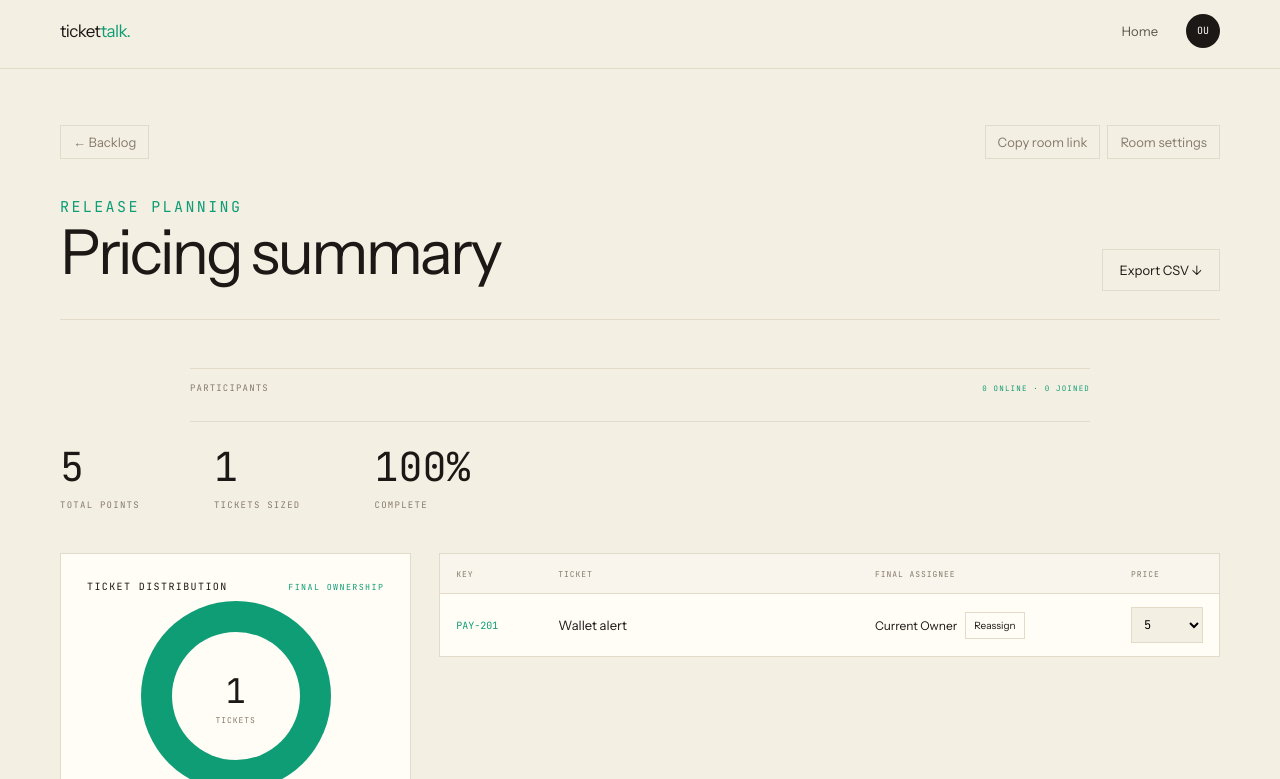
Test: room export and deletion › selects a final Jira assignee and writes the summary back
Click the button "Reassign" at (995, 625), box [965, 612, 1025, 638]
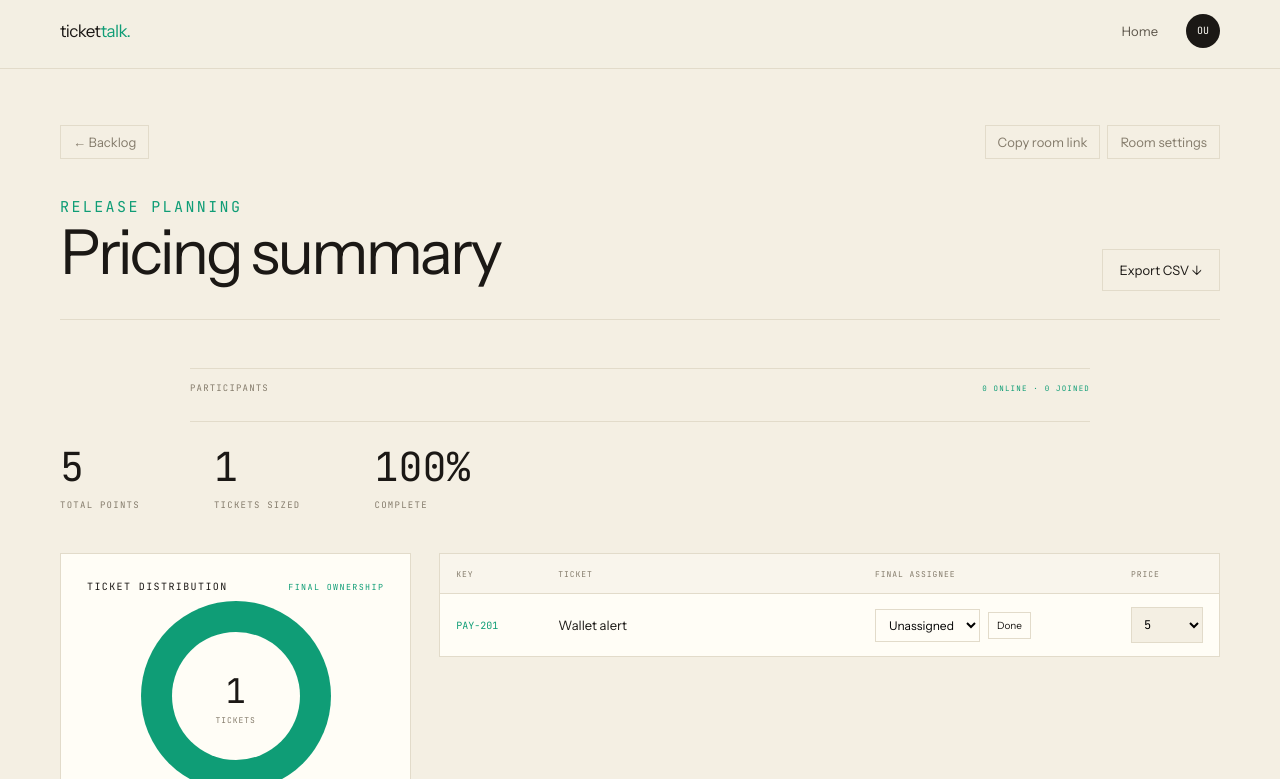
Select "Maya Chen" in the dropdown named "Final assignee for PAY-201" at (927, 625), box [875, 608, 980, 642]
Select "8" in the dropdown named "Final estimate for PAY-201" at (1167, 625), box [1131, 607, 1203, 643]
(page scrolled)
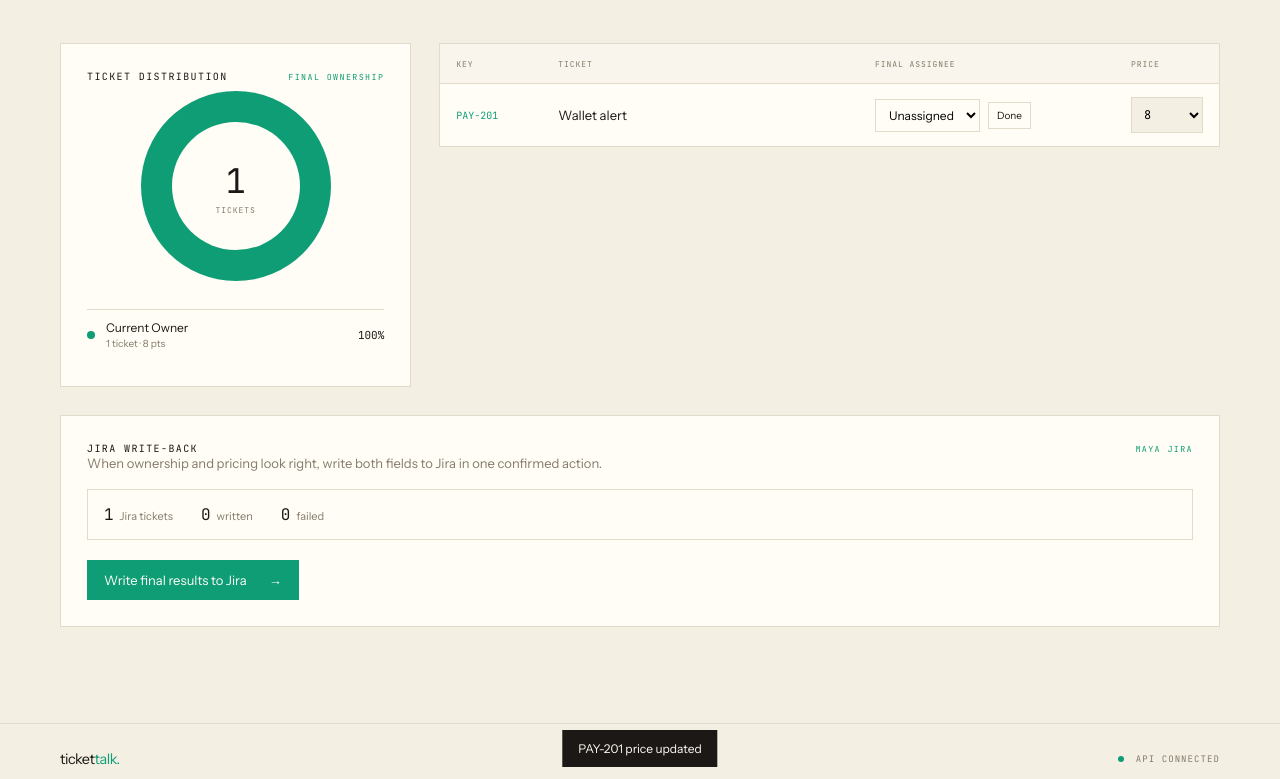
Click the button "Write final results to Jira →" at (193, 580), box [87, 560, 299, 600]
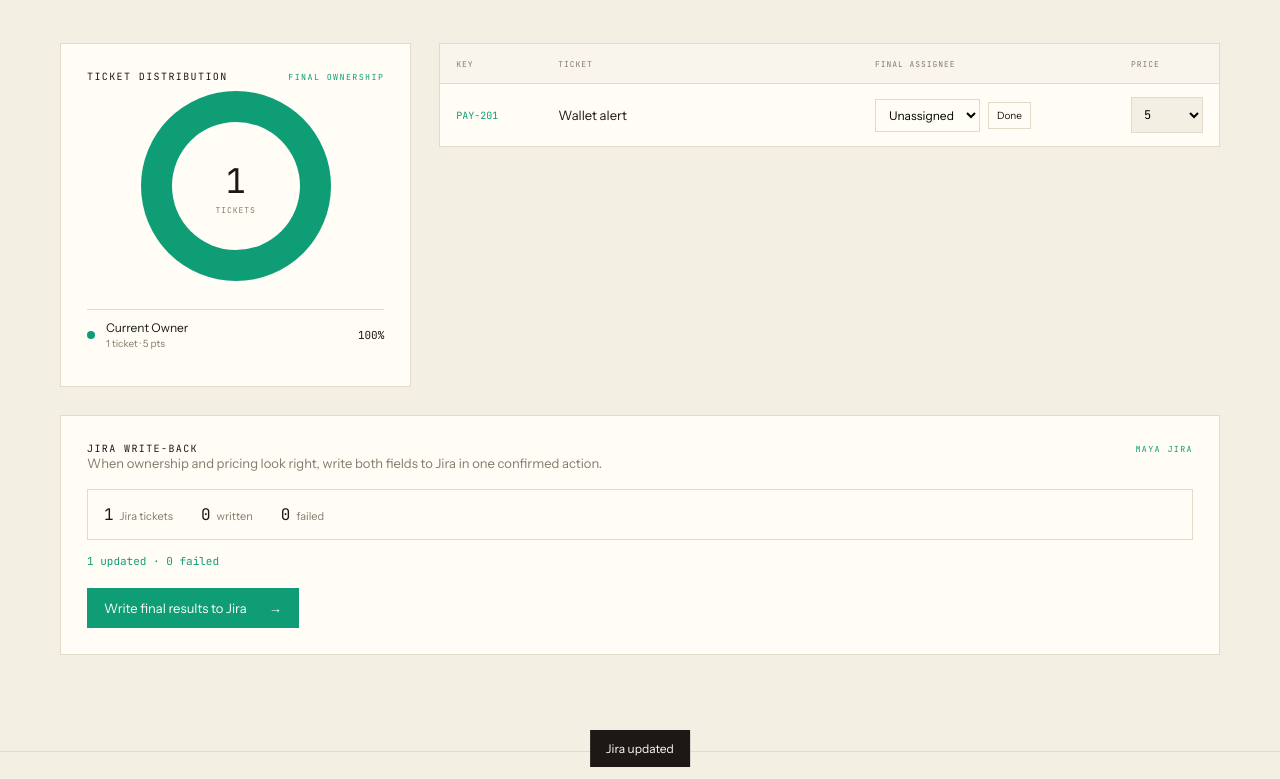
Expected: the text "1 updated · 0 failed" is shown, [87, 554, 219, 568]
